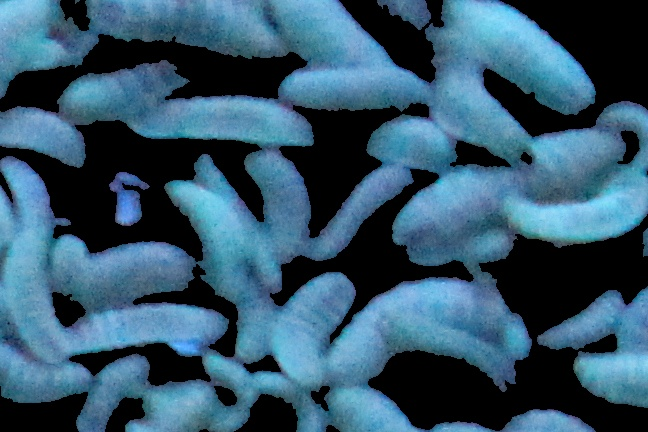larvae: (398, 124, 647, 255), (334, 281, 529, 390), (441, 1, 596, 111), (419, 42, 530, 167), (89, 1, 291, 61), (163, 178, 253, 304), (304, 162, 413, 266), (237, 145, 322, 263), (1, 218, 72, 357), (1, 1, 86, 114), (501, 183, 648, 248), (268, 273, 354, 384), (125, 97, 322, 143), (273, 1, 396, 74), (54, 60, 189, 126), (68, 305, 232, 352), (70, 243, 206, 299), (365, 107, 469, 180), (70, 356, 161, 432), (1, 100, 91, 173), (1, 345, 101, 410), (280, 68, 428, 109), (588, 95, 648, 187), (542, 292, 630, 354), (570, 344, 648, 412), (231, 274, 286, 369), (326, 383, 422, 432), (3, 157, 58, 234)
